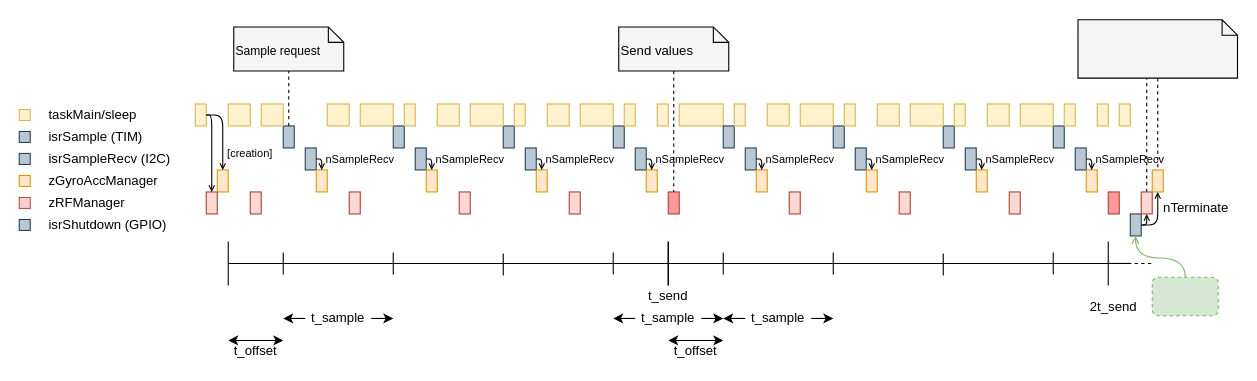
This 1257x381 diagram has some shape labels left out. Here are the shapes that lost their labels. From the top down, the centre of each, then its label:
At [1157,48]: "Close connections and stop executing".
At [1184,296]: "Shutdown signal".
